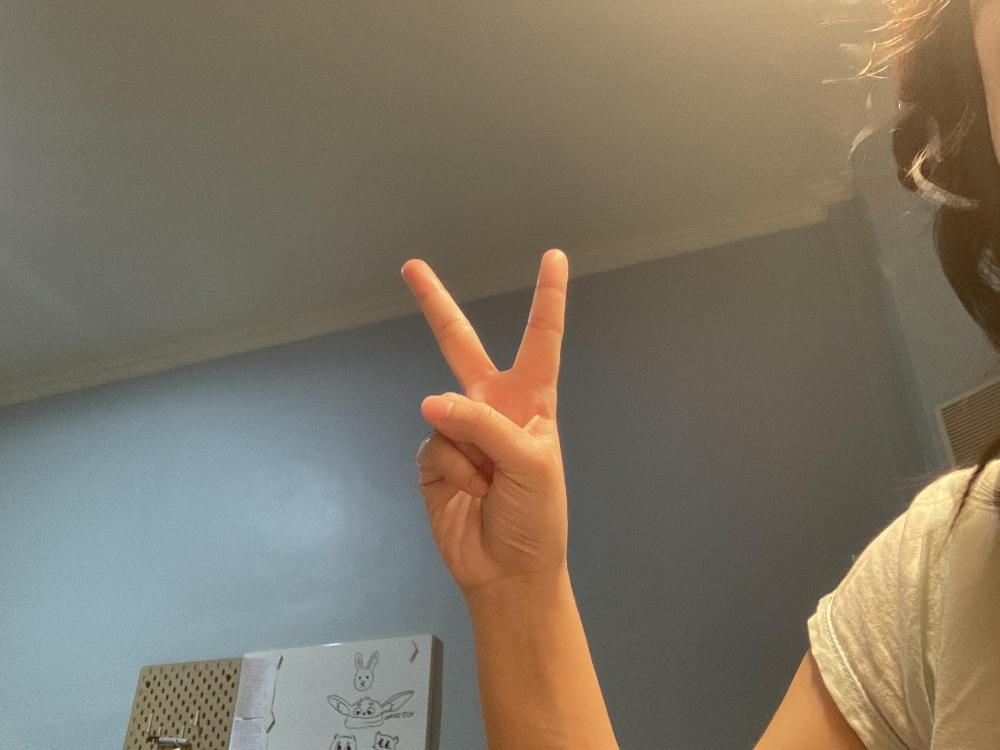v: (399, 245, 569, 589)
